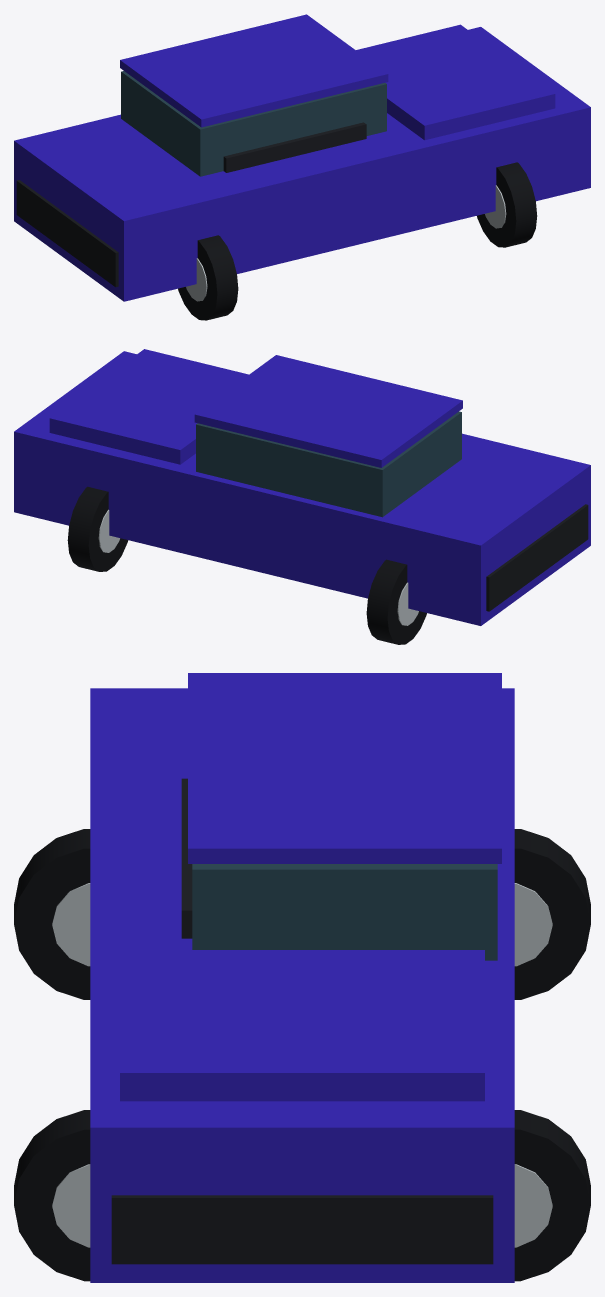
Rendered from ford_escape.glb.
3 views of the same model, one above another, from view 1: azimuth 30°, elevation 25°; view 2: azimuth 150°, elevation 25°; view 3: azimuth 270°, elevation 25° (orthographic). The views are drawn at different scales.
Parts seen in each view (by area): view 1: body, roof, hood, cabin, rear_bumper, rear_right_wheel, front_right_wheel, interior; view 2: body, roof, cabin, hood, rear_bumper, rear_left_wheel, front_left_wheel; view 3: body, roof, hood, front_bumper, cabin, front_left_wheel, front_right_wheel, rear_left_wheel, rear_right_wheel, interior.
Part boxes in pixels (x1=…): body: x1=14, y1=27, x2=590, y2=301; roof: x1=120, y1=14, x2=388, y2=127; hood: x1=356, y1=24, x2=555, y2=140; cabin: x1=121, y1=71, x2=386, y2=176; rear_bumper: x1=16, y1=180, x2=118, y2=287; rear_right_wheel: x1=178, y1=235, x2=238, y2=320; front_right_wheel: x1=477, y1=162, x2=537, y2=247; interior: x1=223, y1=122, x2=366, y2=172; body: x1=14, y1=351, x2=590, y2=625; roof: x1=194, y1=355, x2=462, y2=467; cabin: x1=196, y1=411, x2=461, y2=517; hood: x1=49, y1=349, x2=248, y2=464; rear_bumper: x1=486, y1=504, x2=588, y2=611; rear_left_wheel: x1=366, y1=559, x2=426, y2=644; front_left_wheel: x1=67, y1=486, x2=128, y2=571; body: x1=90, y1=688, x2=514, y2=1282; roof: x1=188, y1=673, x2=501, y2=863; hood: x1=120, y1=950, x2=484, y2=1101; front_bumper: x1=111, y1=1195, x2=493, y2=1264; cabin: x1=192, y1=864, x2=497, y2=960; front_left_wheel: x1=514, y1=1110, x2=590, y2=1281; front_right_wheel: x1=14, y1=1110, x2=90, y2=1281; rear_left_wheel: x1=514, y1=829, x2=590, y2=999; rear_right_wheel: x1=14, y1=829, x2=90, y2=999; interior: x1=181, y1=778, x2=192, y2=938.
Bounding box in the file's own units: 4.96 × 1.74 × 2.72.
